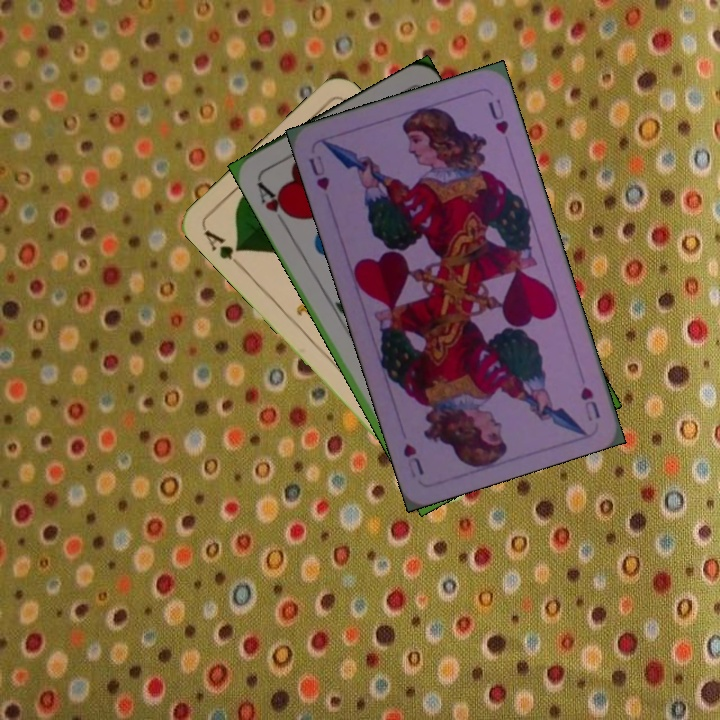GA: (199, 225, 247, 272)
HA: (252, 177, 295, 230)
HU: (305, 151, 333, 194), (576, 383, 603, 424)
